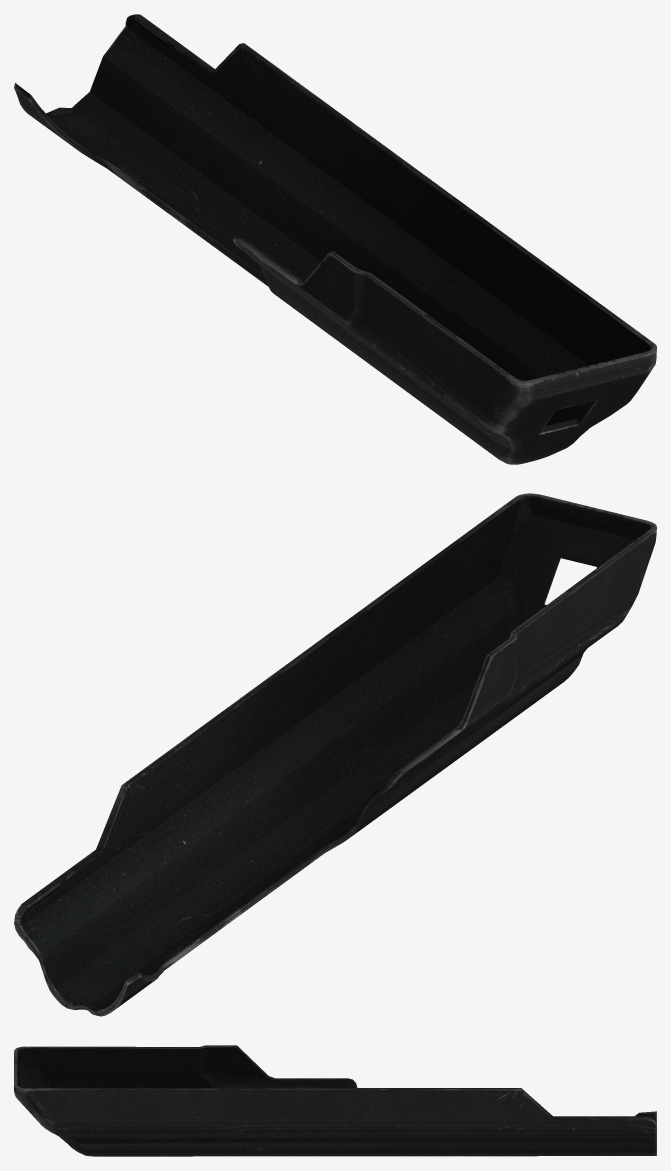
The picture shows the model from 3 angles, top to bottom: view 1: azimuth 30°, elevation 25°; view 2: azimuth 150°, elevation 25°; view 3: azimuth 270°, elevation 25°; orthographic projection. The views are drawn at different scales.
Visible parts, largest first — view 1: TW_57616c112459773cce774d66_PZ_Import; view 2: TW_57616c112459773cce774d66_PZ_Import; view 3: TW_57616c112459773cce774d66_PZ_Import.
Part boxes in pixels (left/top/right/bottom): TW_57616c112459773cce774d66_PZ_Import: left=14, top=14, right=656, bottom=464; TW_57616c112459773cce774d66_PZ_Import: left=14, top=493, right=656, bottom=1016; TW_57616c112459773cce774d66_PZ_Import: left=14, top=1045, right=656, bottom=1156.
Size of the model in its own units: 0.0223 by 0.1356 by 0.02.
Materials: 1 (1 with a texture image).
